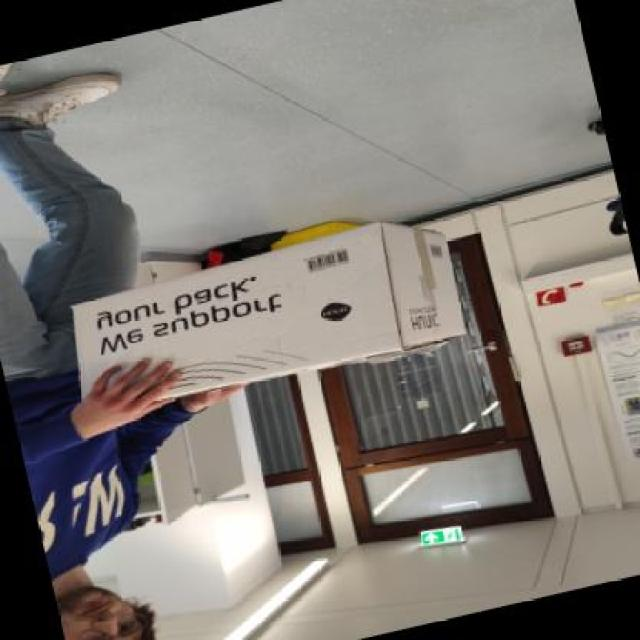box: (26, 184, 505, 456)
